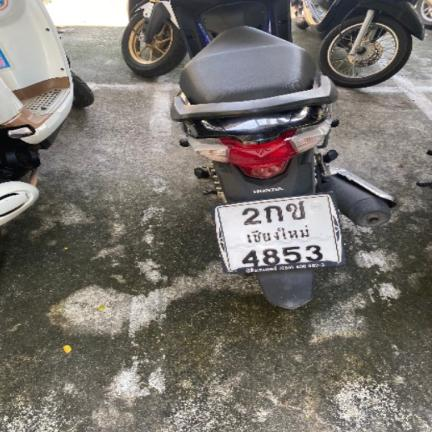2: (238, 206, 262, 225)
3: (302, 245, 324, 261)
4: (238, 249, 260, 267)
5: (281, 246, 302, 263)
8: (262, 247, 279, 265)
A01: (263, 204, 284, 223)
A10: (286, 201, 307, 220)
CMI: (242, 224, 312, 245)
